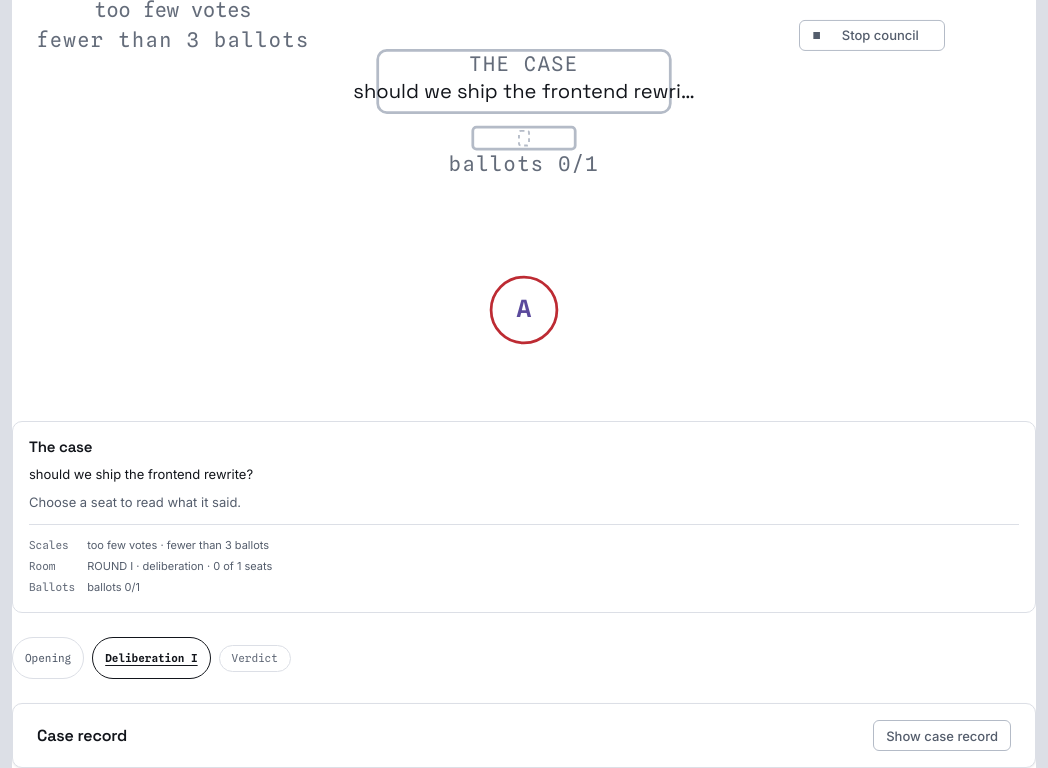
Test: Council - a seat's answer › shows the error of a latest step that failed
This screenshot has width=1048, height=768.
(page scrolled)
Click the button "Show case record" at (942, 736), box [873,720,1011,751]
(page scrolled)
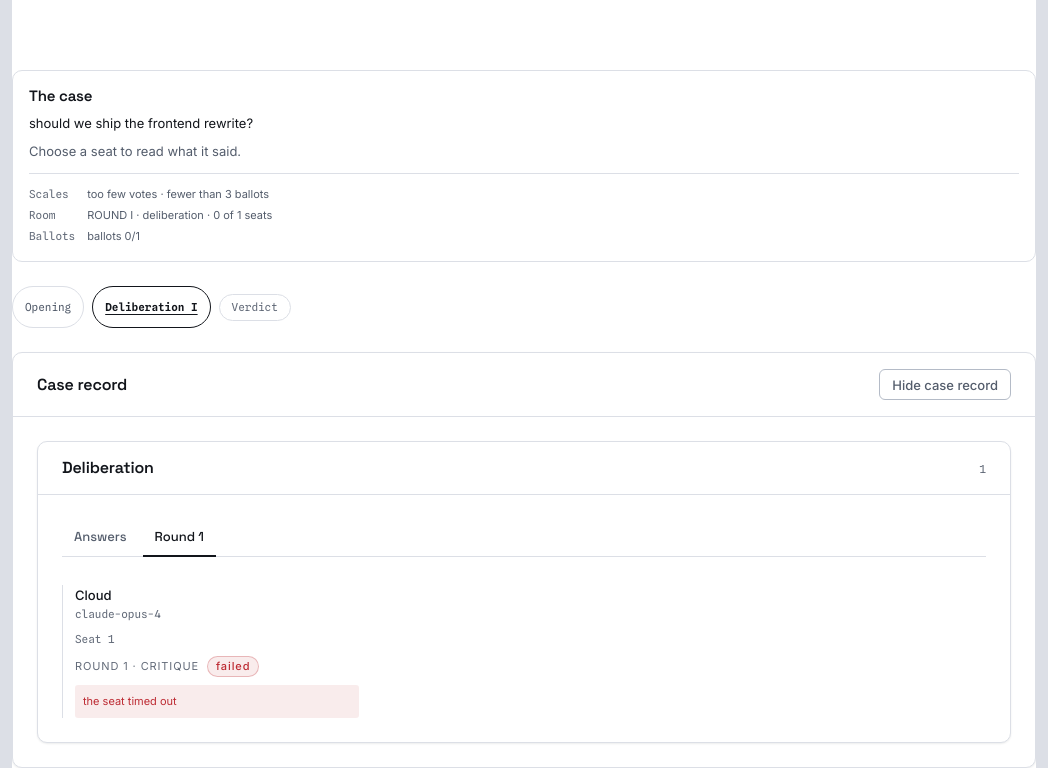
expect the text "the seat timed out" is shown: met, box [75,685,359,718]
expect the text "failed" is shown: met, box [207,656,259,677]
